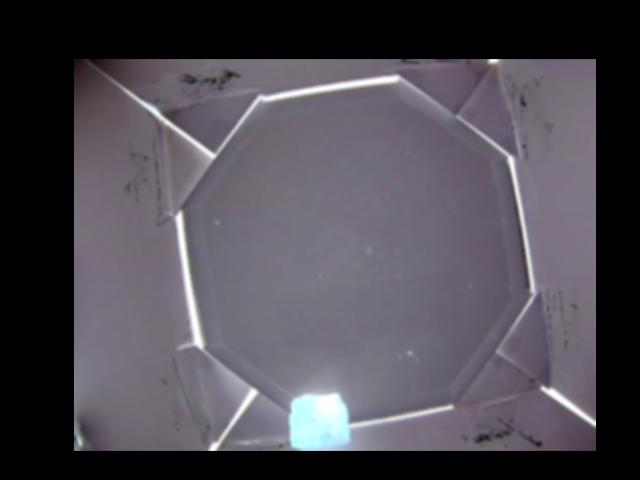Brisk: (290, 392, 349, 447)
